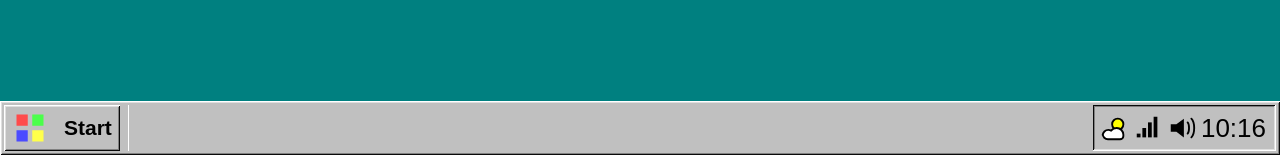
Test: Taskbar Weather Caching › fetches from API when cache is empty
This screenshot has width=1280, height=155.
Click the button with test id "sys-tray-weather" at {"x": 1114, "y": 128}, box [1099,104,1129,152]
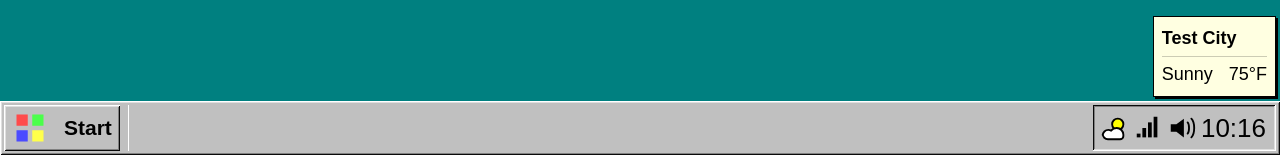
Check: the text "Test City" is shown, box [1162,25,1267,57]
Check: the text "75°F" is shown, box [1229,61,1267,88]
